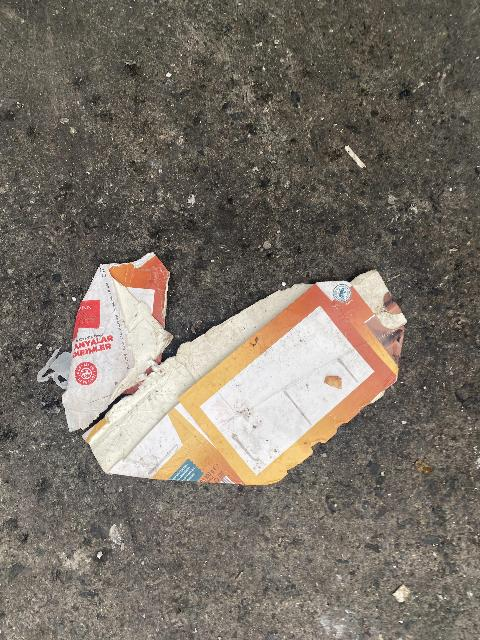Kagit: (33, 249, 410, 490)
